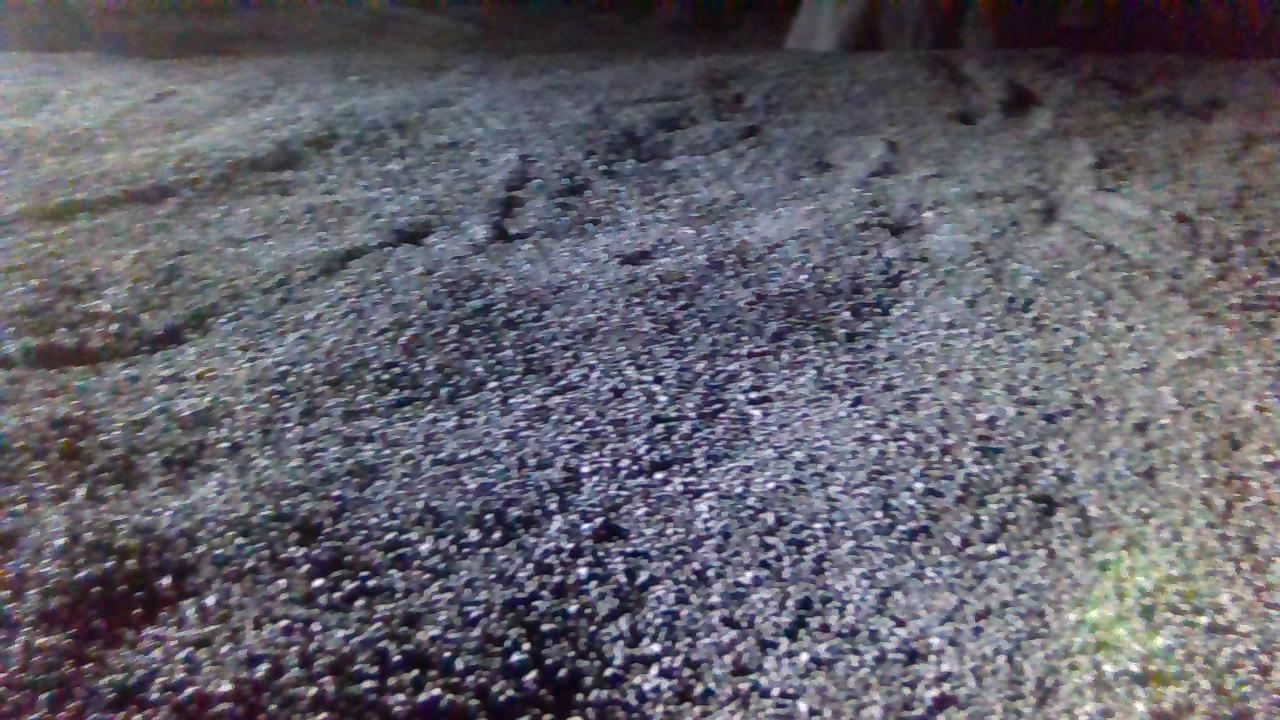rock: (785, 0, 1001, 48)
